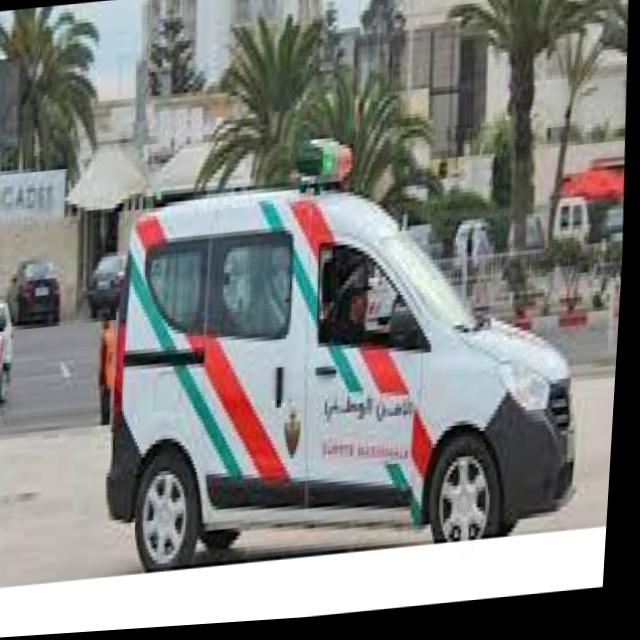Police car: (91, 98, 604, 582)
